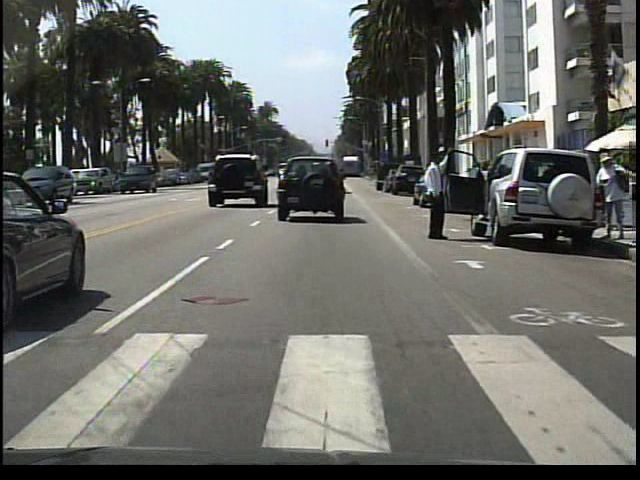person: (419, 145, 458, 252)
